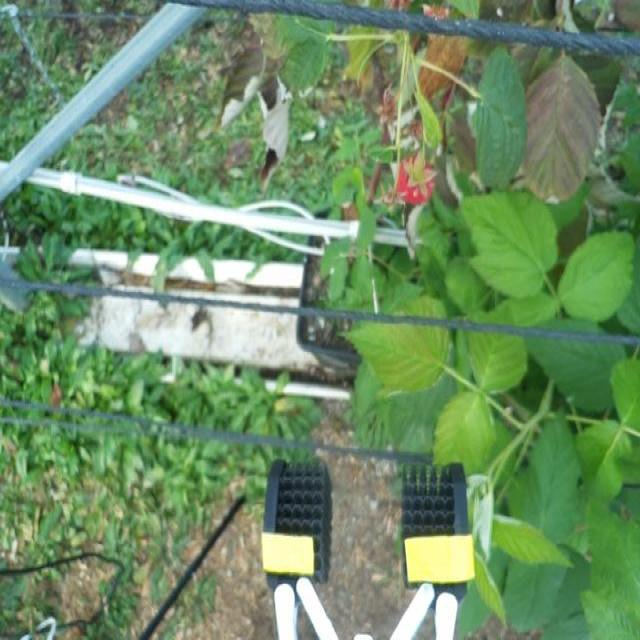Riped berries: (392, 149, 437, 207)
